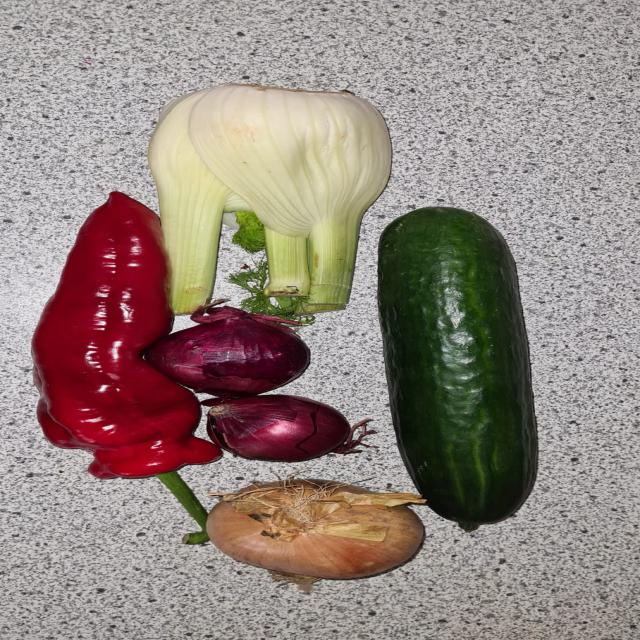Cucumber: (365, 207, 541, 528)
Onion: (208, 480, 434, 585), (149, 306, 309, 400), (189, 397, 378, 463)
